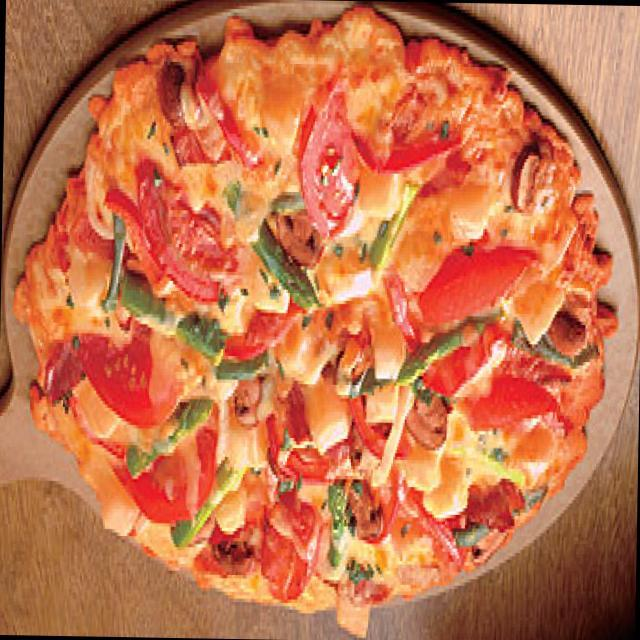Pizza: (8, 14, 614, 624)
